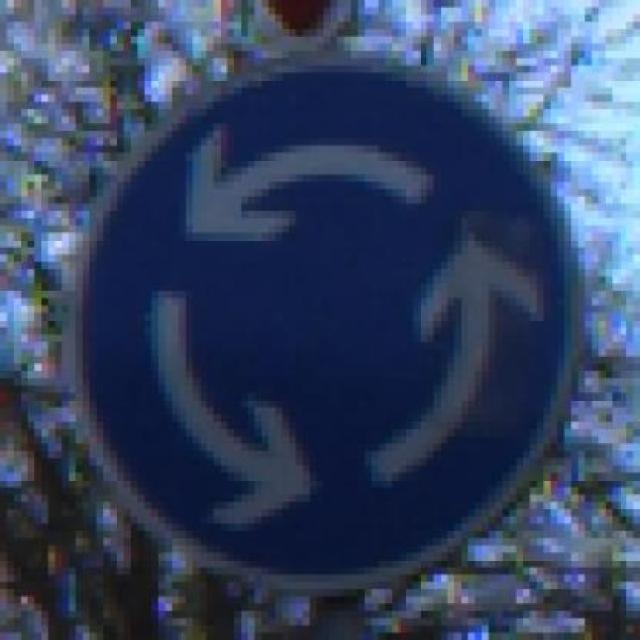Round-About: (28, 51, 592, 611)
